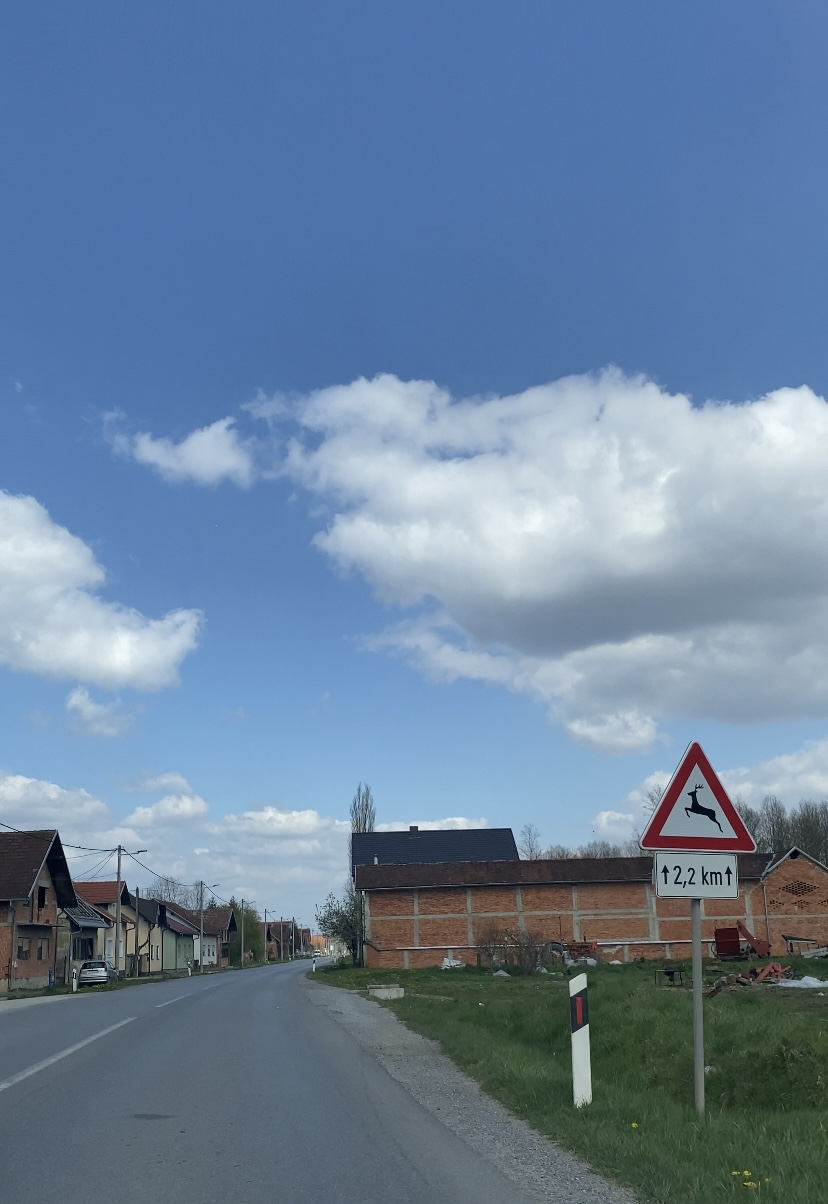Divljač na cesti: (638, 740, 757, 853)
